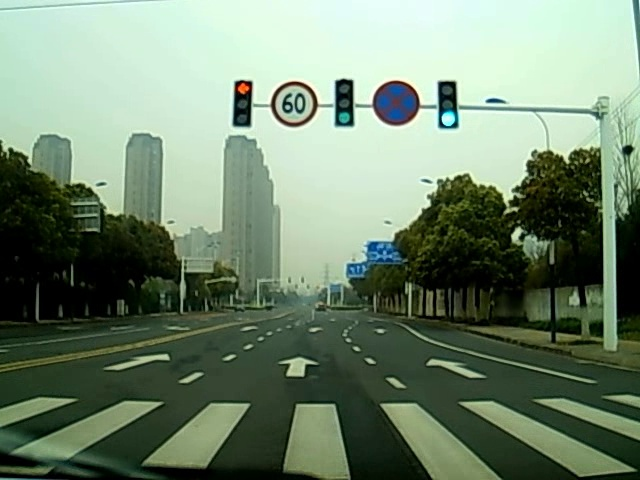Traffic_Light_go: (438, 81, 458, 128), (336, 82, 352, 125)
Traffic_Light_stop: (233, 81, 251, 126)
